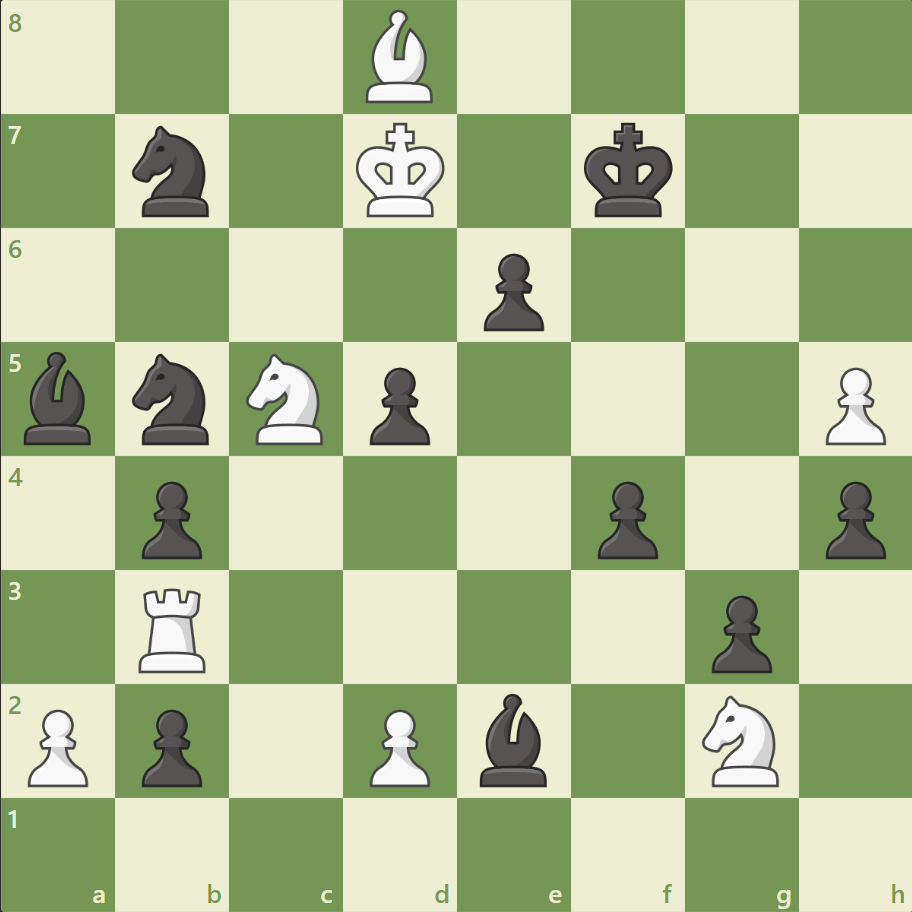B: (358, 6, 442, 109)
K: (351, 117, 451, 225)
N: (692, 688, 789, 791), (238, 348, 335, 450)
P: (20, 700, 95, 791), (815, 359, 889, 450), (361, 700, 435, 791)
R: (133, 579, 215, 676)
b: (471, 687, 555, 790), (17, 347, 101, 449)
k: (579, 117, 679, 225)
n: (124, 121, 222, 223), (124, 348, 222, 450)
p: (474, 246, 549, 337), (133, 473, 208, 564), (701, 586, 776, 677), (133, 700, 208, 791), (361, 359, 435, 450), (588, 473, 662, 564), (815, 473, 889, 564)
